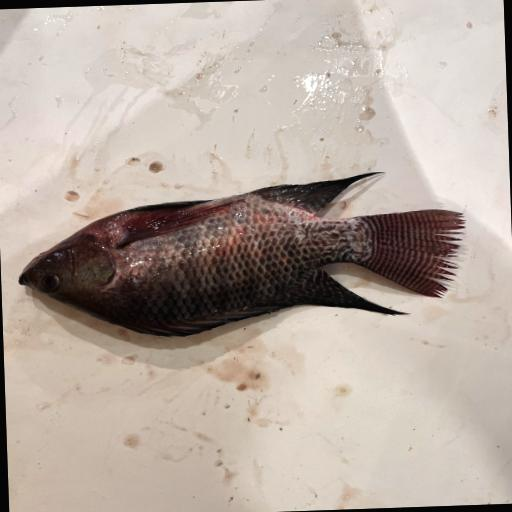Tilapia: (15, 169, 471, 342)
